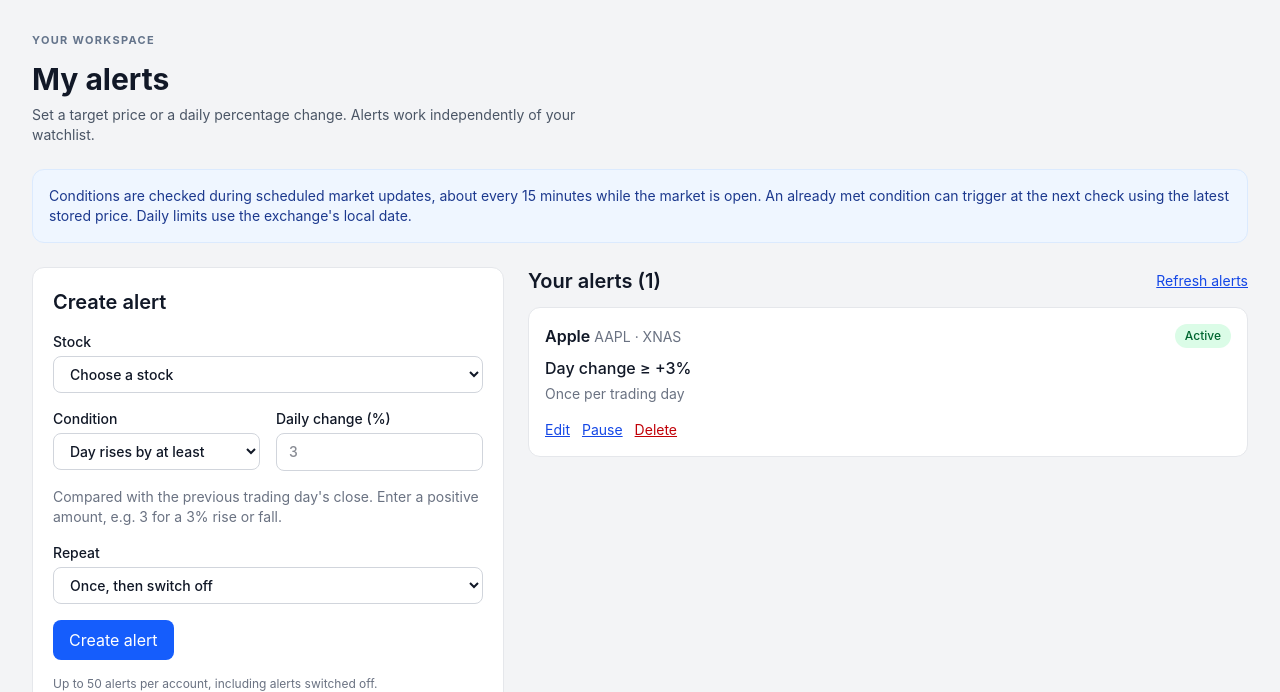
Test case: Alerts › pauses and enables alerts without resending a rule
Click the button with aria-label "Pause alert for AAPL" at coordinates (602, 430), box x1=582 y1=420 x2=623 y2=440
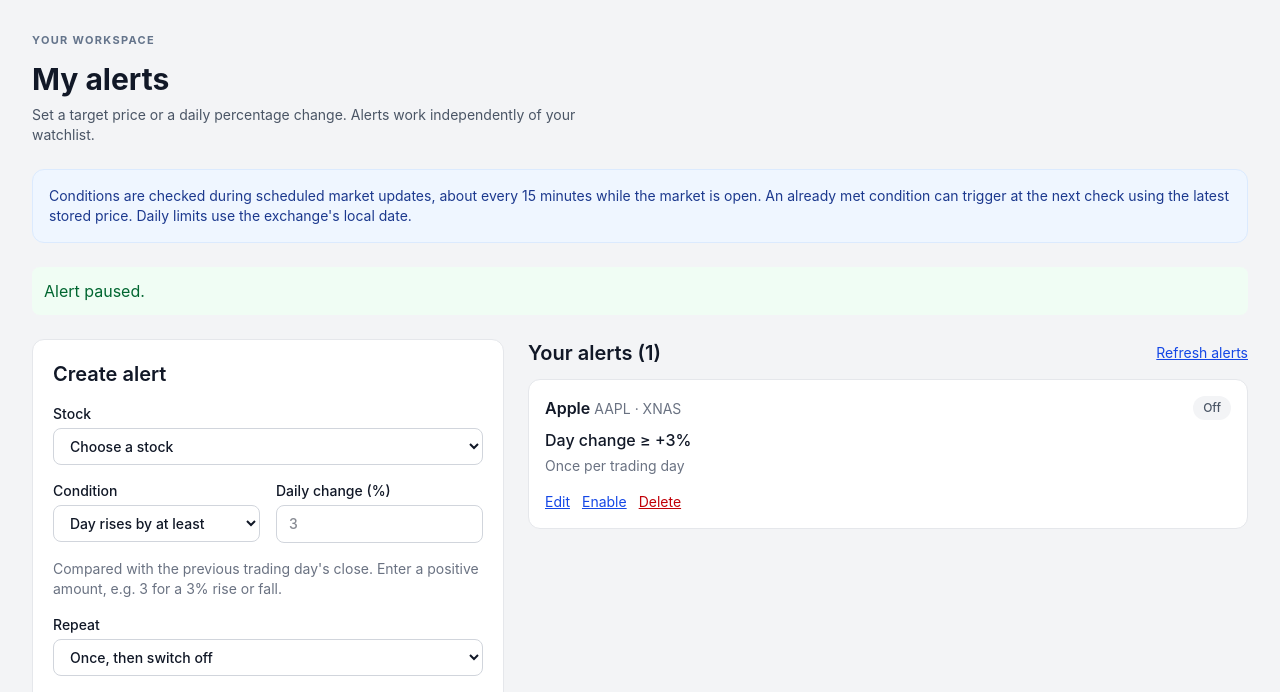
Click the button with aria-label "Enable alert for AAPL" at coordinates (604, 502), box x1=582 y1=492 x2=627 y2=512
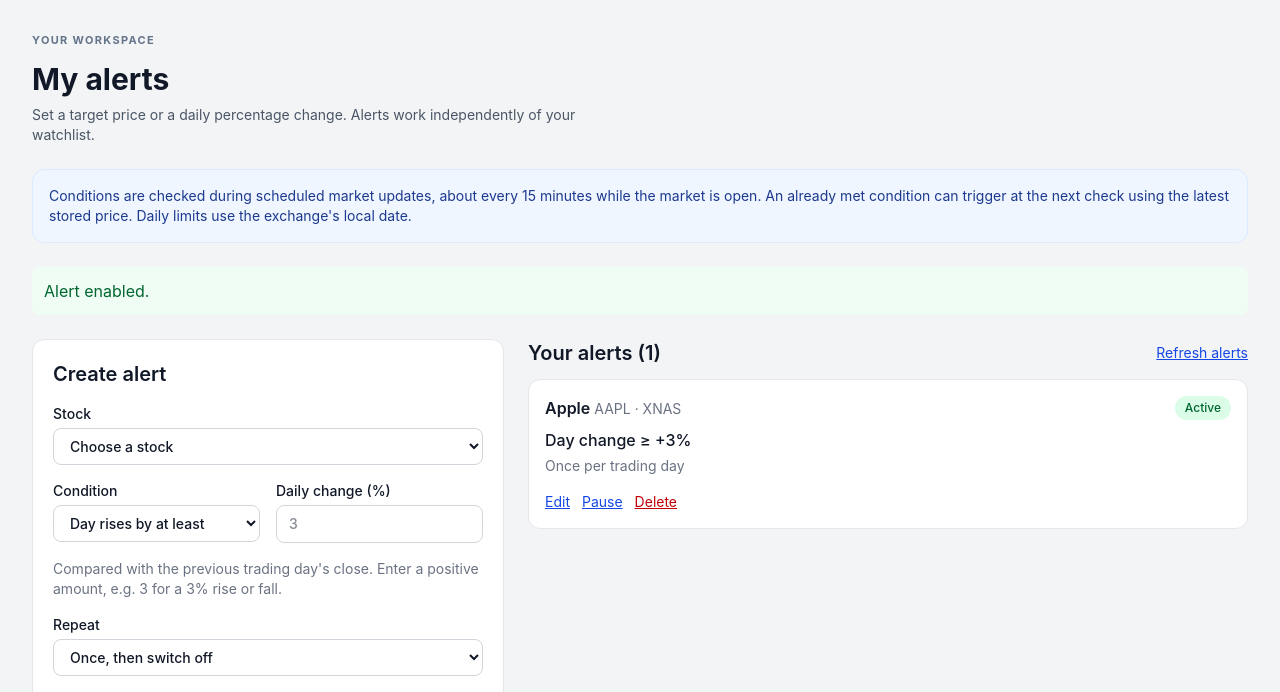
Check: the text "Alert enabled." is shown, box x1=32 y1=266 x2=1248 y2=314
